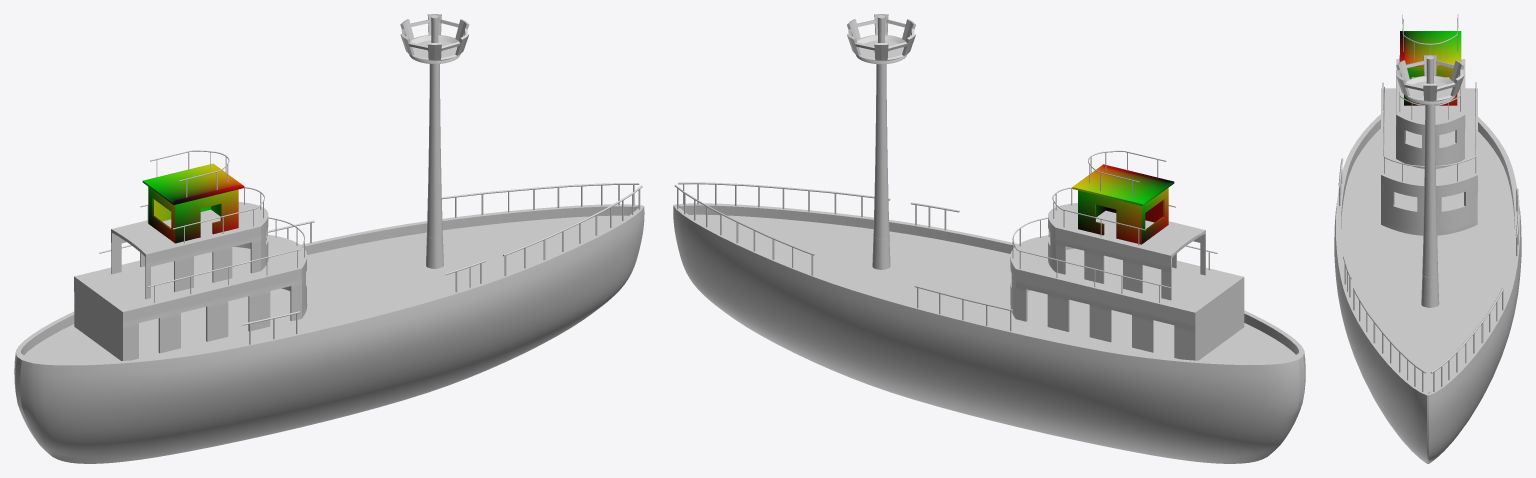
The model's file is Shipwreck2SeparateMast.fbx.
3 renders of one model, left to right at view 1: azimuth 30°, elevation 25°; view 2: azimuth 150°, elevation 25°; view 3: azimuth 270°, elevation 25°, orthographic.
Visible parts, largest first — view 1: Box001, Mast; view 2: Box001, Mast; view 3: Box001, Mast.
Boxes of the visible parts, <box> form: Box001: <box>14,150,644,463</box>; Mast: <box>400,14,469,238</box>; Box001: <box>673,150,1305,463</box>; Mast: <box>847,14,915,239</box>; Box001: <box>1334,14,1521,463</box>; Mast: <box>1396,55,1464,277</box>.
Bounding box in the file's own units: 4707 × 2690 × 1231.
